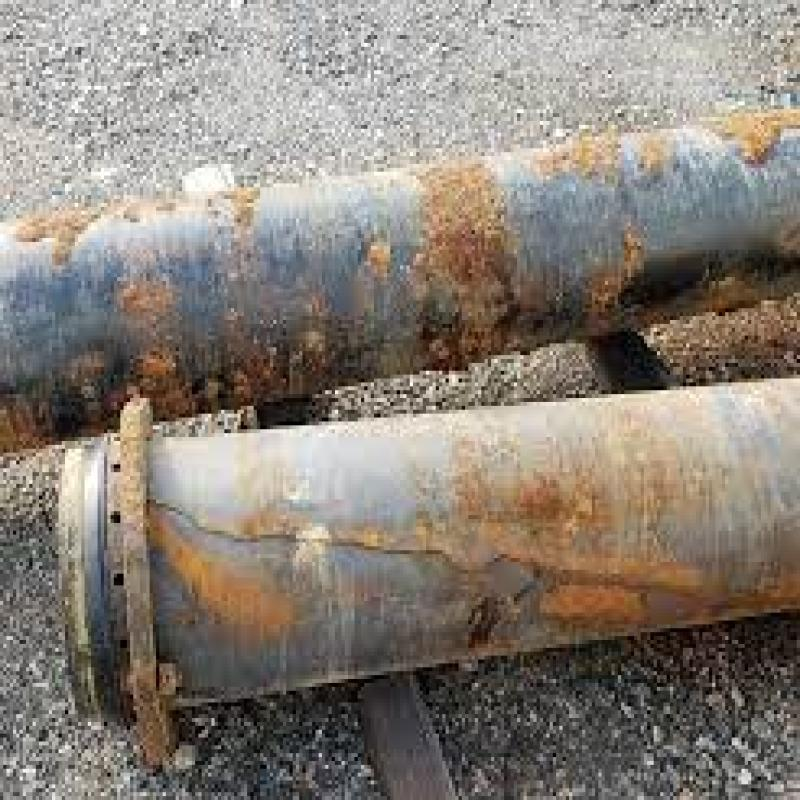Fracture: (141, 489, 570, 585)
corrosion: (393, 168, 533, 365), (10, 197, 100, 265)
